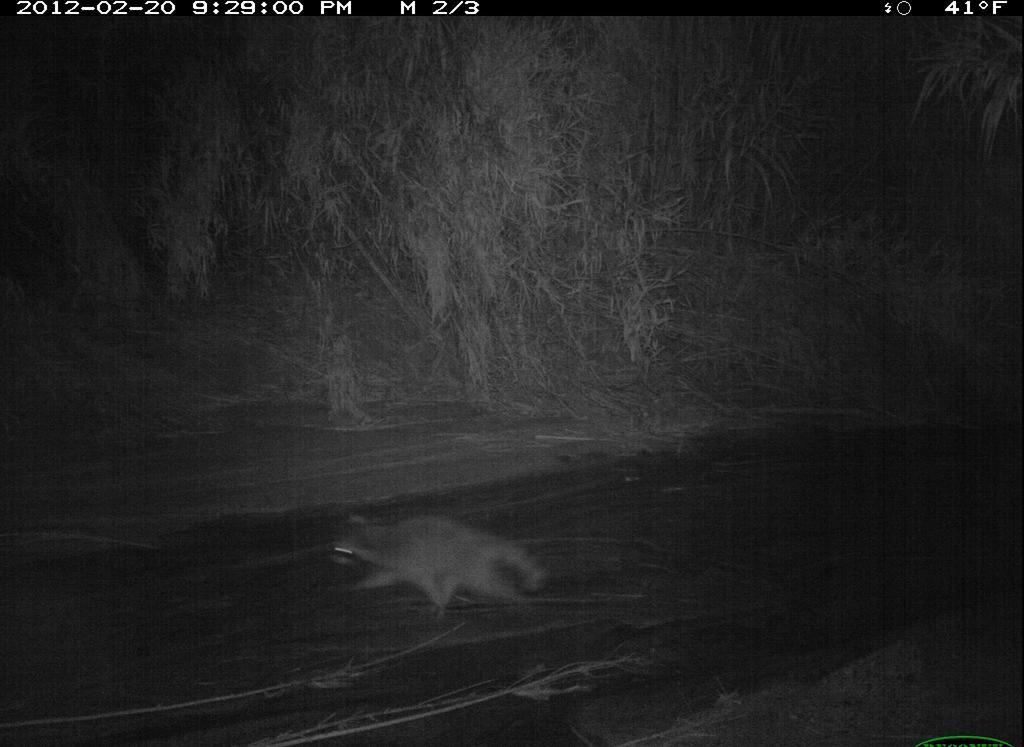raccoon: (315, 492, 557, 625)
